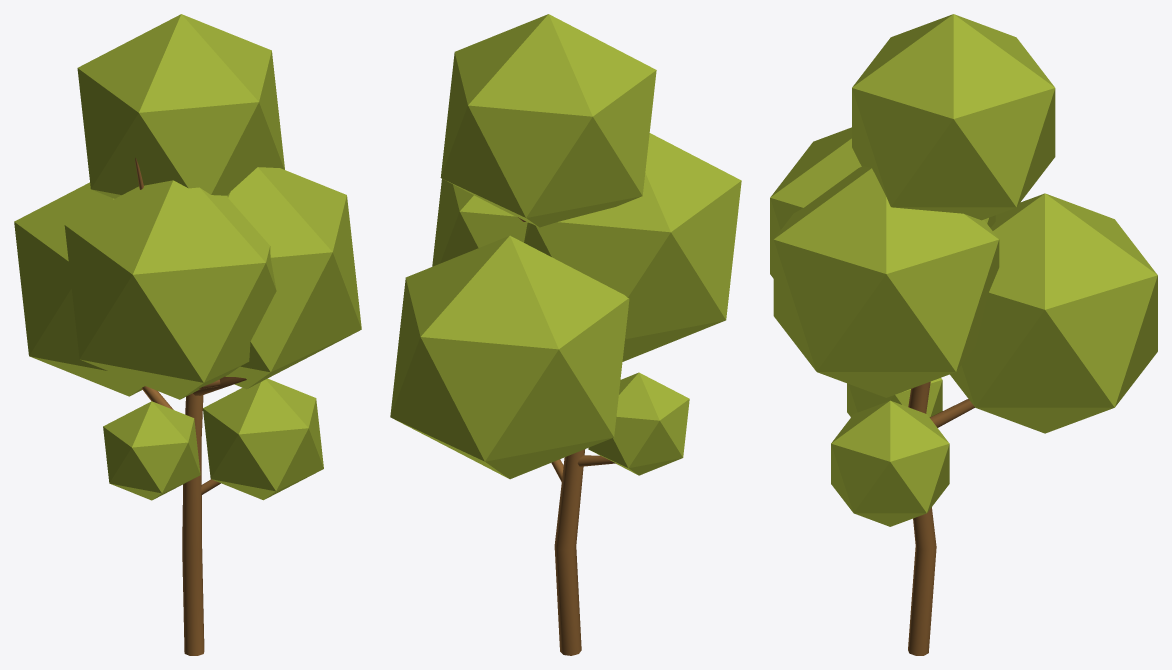
Rendered from oakTreesVisual.glb.
3 renders of one model, left to right at view 1: azimuth 30°, elevation 25°; view 2: azimuth 150°, elevation 25°; view 3: azimuth 270°, elevation 25°, orthographic. The views are drawn at different scales.
Visible parts, largest first — view 1: treeLeaves.007, treeLeaves.006, treeLeaves.009, treeLeaves.010, treeLeaves.008, treeLeaves.011, GN Instance; view 2: treeLeaves.008, treeLeaves.006, treeLeaves.007, treeLeaves.011, GN Instance, treeLeaves.009; view 3: treeLeaves.009, treeLeaves.008, treeLeaves.006, treeLeaves.010, treeLeaves.007, GN Instance, treeLeaves.011.
Boxes of the visible parts, bbox=[...] form: treeLeaves.007: bbox=[64, 180, 276, 399]; treeLeaves.006: bbox=[77, 14, 284, 198]; treeLeaves.009: bbox=[225, 167, 361, 389]; treeLeaves.010: bbox=[203, 378, 323, 500]; treeLeaves.008: bbox=[14, 182, 144, 396]; treeLeaves.011: bbox=[103, 401, 200, 500]; GN Instance: bbox=[135, 158, 246, 655]; treeLeaves.008: bbox=[390, 235, 629, 479]; treeLeaves.006: bbox=[440, 14, 656, 227]; treeLeaves.007: bbox=[524, 133, 741, 361]; treeLeaves.011: bbox=[588, 372, 689, 475]; GN Instance: bbox=[518, 217, 615, 655]; treeLeaves.009: bbox=[432, 179, 527, 266]; treeLeaves.009: bbox=[773, 166, 999, 397]; treeLeaves.008: bbox=[950, 193, 1157, 433]; treeLeaves.006: bbox=[852, 14, 1055, 220]; treeLeaves.010: bbox=[831, 400, 949, 526]; treeLeaves.007: bbox=[770, 127, 995, 278]; GN Instance: bbox=[908, 381, 974, 655]; treeLeaves.011: bbox=[847, 378, 942, 417].
Size of the model in its own units: 3.74 by 8.31 by 4.56.
